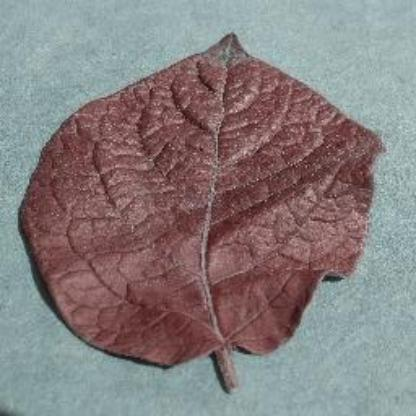Healthy-plant: (16, 26, 388, 390)
